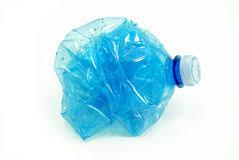Plastic: (51, 12, 203, 147)
